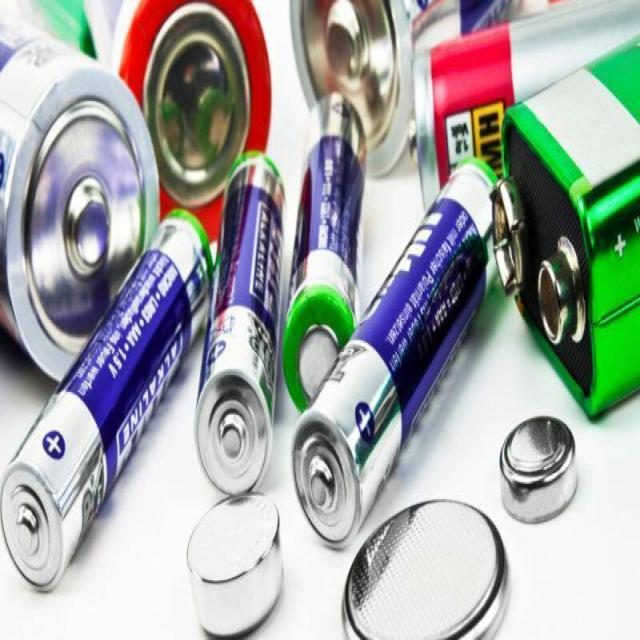AA: (288, 154, 499, 557), (0, 204, 214, 598), (191, 148, 288, 498), (280, 87, 371, 417)
COIN: (338, 497, 513, 638), (184, 488, 287, 638), (499, 413, 582, 532)
